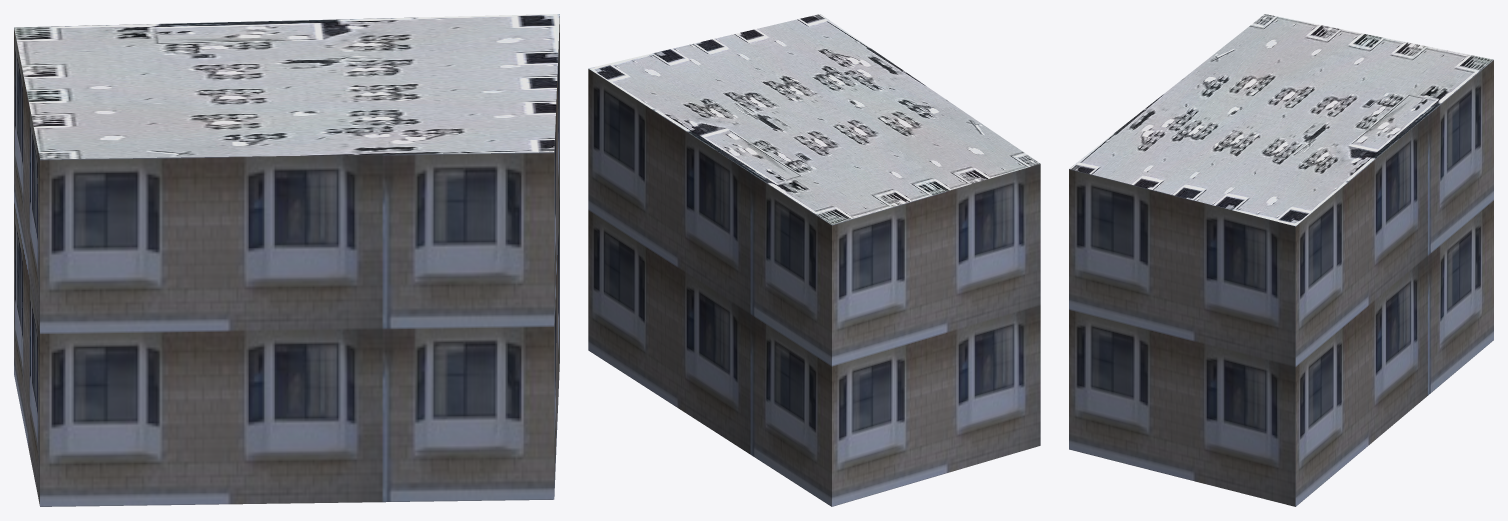
File: ResTex__1879.fbx
3 views of the same model, side by side, from view 1: azimuth 30°, elevation 25°; view 2: azimuth 150°, elevation 25°; view 3: azimuth 270°, elevation 25° (orthographic). The views are drawn at different scales.
Visible parts, largest first — view 1: CityEngineMaterial_3_m, CityEngineMaterial_m; view 2: CityEngineMaterial_3_m, CityEngineMaterial_m; view 3: CityEngineMaterial_3_m, CityEngineMaterial_m.
Part boxes in pixels (<box>): CityEngineMaterial_3_m: <box>14,16,559,506</box>; CityEngineMaterial_m: <box>14,14,559,159</box>; CityEngineMaterial_3_m: <box>588,69,1040,506</box>; CityEngineMaterial_m: <box>588,14,1040,224</box>; CityEngineMaterial_3_m: <box>1069,60,1493,506</box>; CityEngineMaterial_m: <box>1069,14,1493,226</box>.
Size of the model in its own units: 9.74 by 6 by 8.23.
2 materials, 2 textured.
